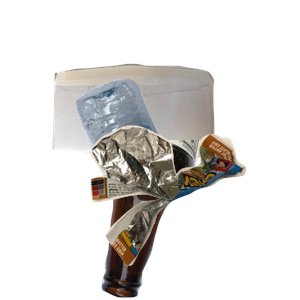glass: (99, 140, 300, 300)
paper: (50, 61, 257, 211)
plastic: (73, 76, 300, 256)
trash: (88, 123, 300, 300)
